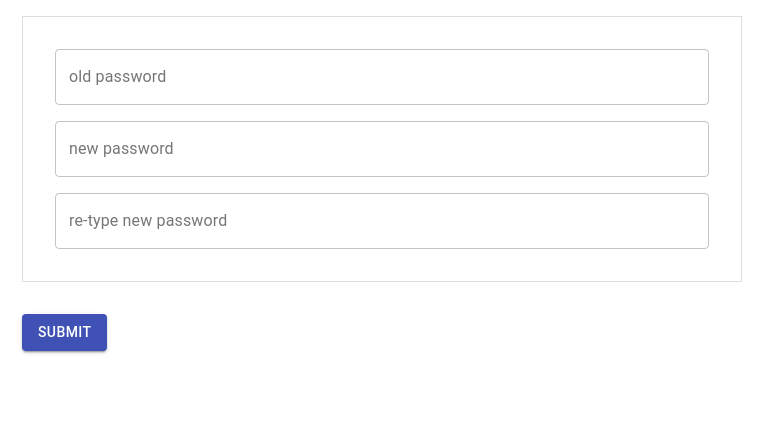
Form › shows error message when new password did not match
Step 1. Type "test12^*" into the password field labelled "new password" → (382, 149), box 55,121 -> 709,177
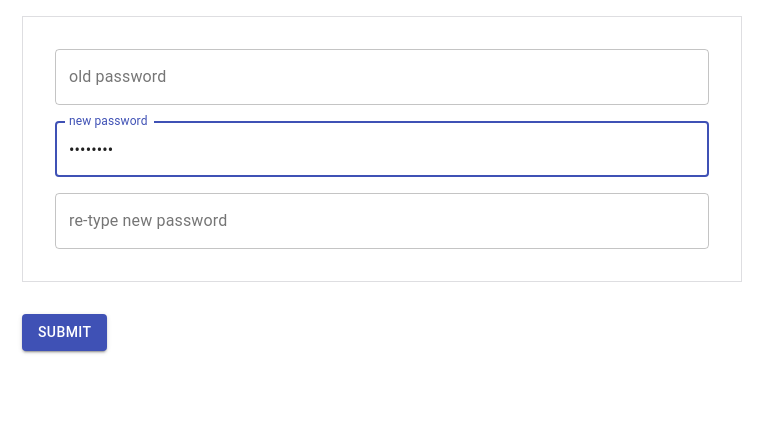
Step 2. Type "test12^*no" into the password field labelled "re-type new password" → (382, 221), box 55,193 -> 709,249
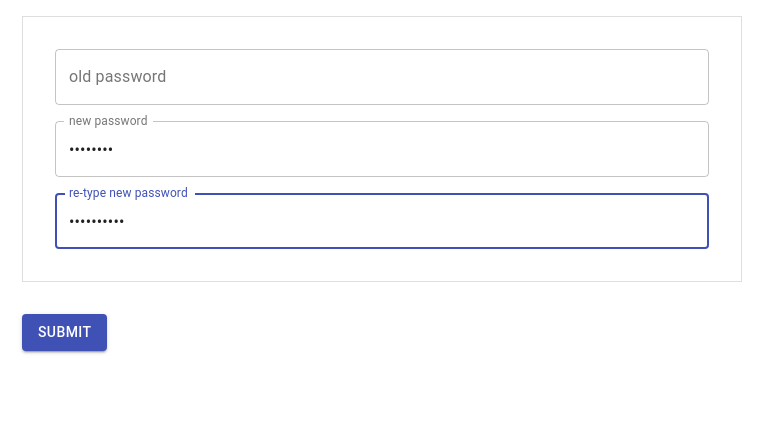
Step 3. Click the button with aria-label "submit new password" → (65, 332), box 22,314 -> 107,350
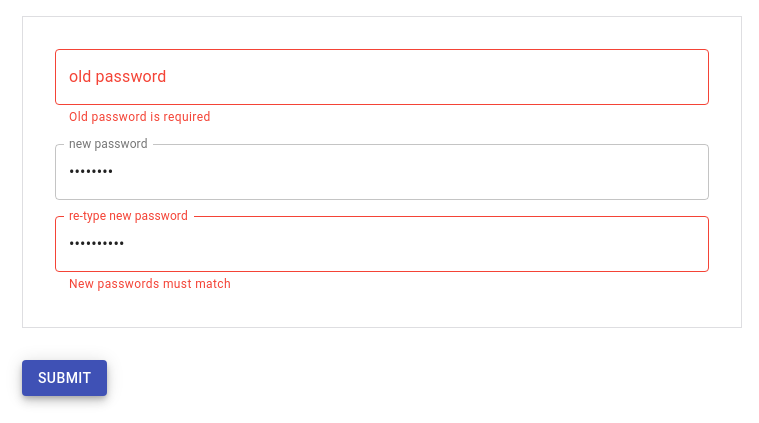
expect the text "New passwords must match" is shown: met, box 69,277 -> 231,291
